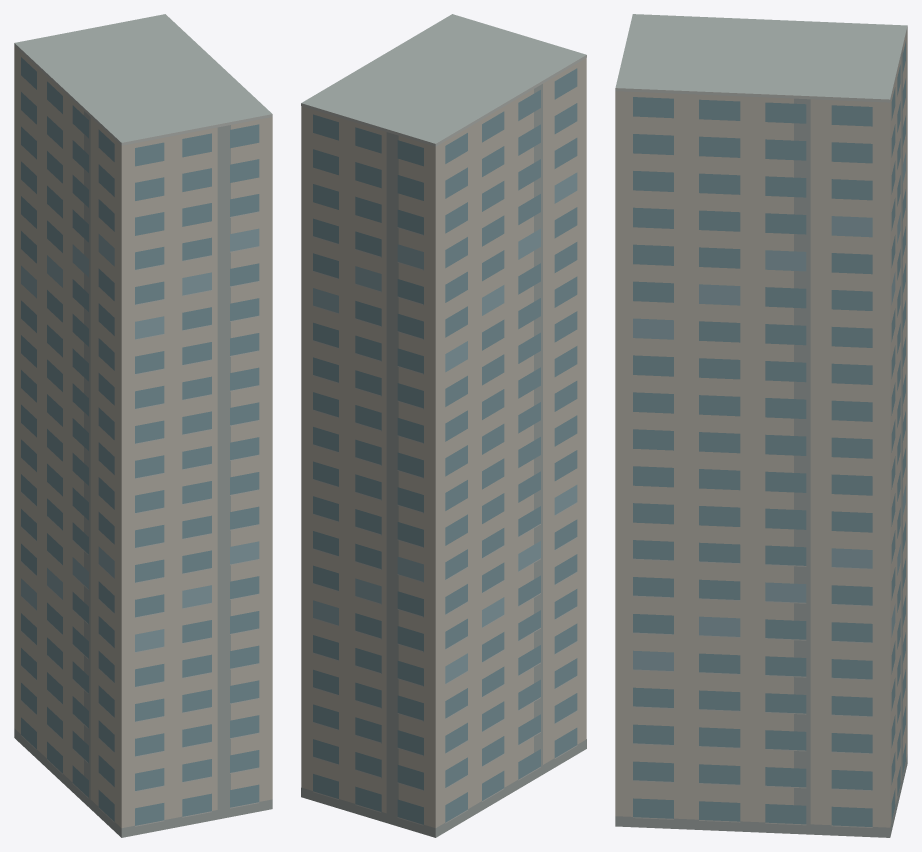
File: residential-4e1ccae8-c1b6-427d-9fe3-ea7682b4c949.glb
3 views of the same model, side by side, from view 1: azimuth 30°, elevation 25°; view 2: azimuth 150°, elevation 25°; view 3: azimuth 270°, elevation 25° (orthographic). The views are drawn at different scales.
Parts seen in each view (by area): view 1: residential-4e1ccae8-c1b6-427d-9fe3-ea7682b4c949.tmp; view 2: residential-4e1ccae8-c1b6-427d-9fe3-ea7682b4c949.tmp; view 3: residential-4e1ccae8-c1b6-427d-9fe3-ea7682b4c949.tmp.
Part boxes in pixels (x1=…): residential-4e1ccae8-c1b6-427d-9fe3-ea7682b4c949.tmp: x1=14, y1=14, x2=272, y2=837; residential-4e1ccae8-c1b6-427d-9fe3-ea7682b4c949.tmp: x1=301, y1=14, x2=586, y2=837; residential-4e1ccae8-c1b6-427d-9fe3-ea7682b4c949.tmp: x1=615, y1=14, x2=907, y2=837.
Size of the model in its own units: 14.42 by 58 by 20.81.
